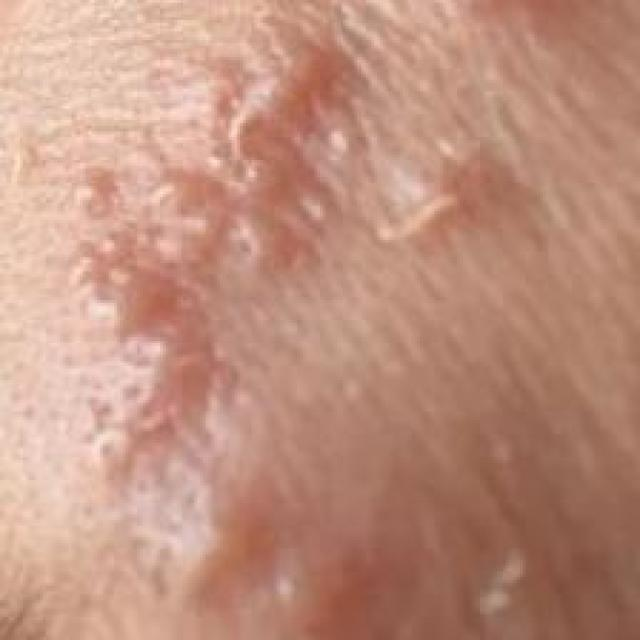monkeypox: (31, 2, 640, 638)
